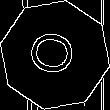O_E: (26, 29, 84, 81)
